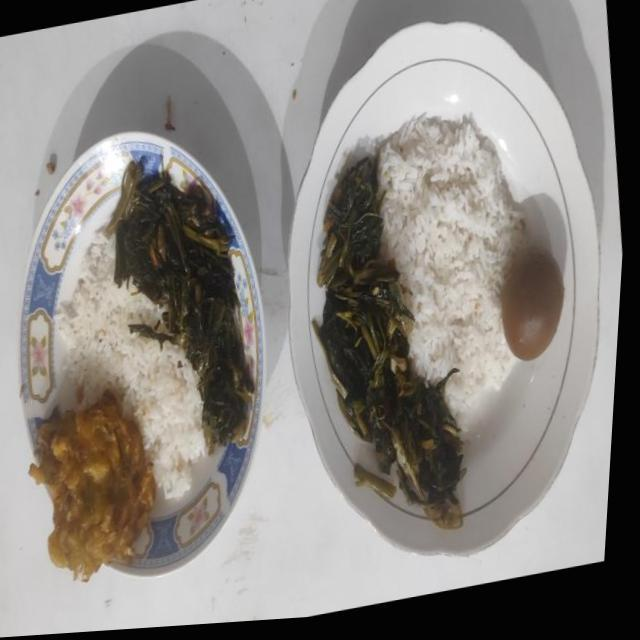nasi_putih: (376, 116, 524, 426), (59, 234, 208, 501)
tumis_kangkung: (312, 151, 466, 528), (105, 155, 257, 454)
